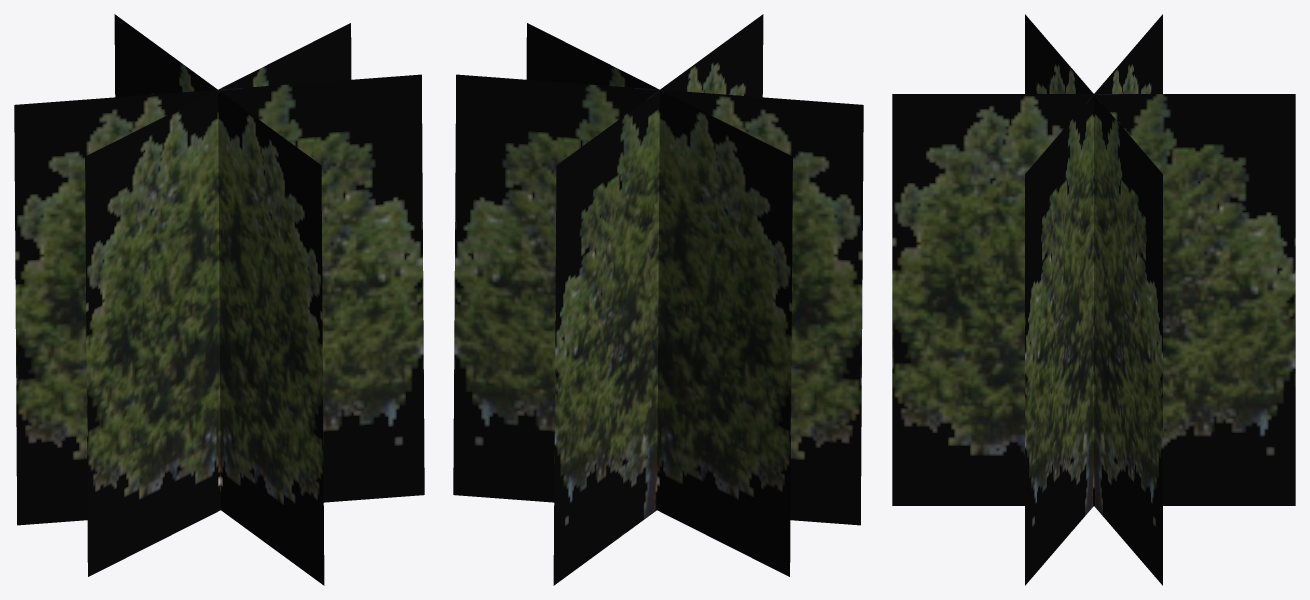
The model's file is shrub.glb.
3 views of the same model, side by side, from view 1: azimuth 30°, elevation 25°; view 2: azimuth 150°, elevation 25°; view 3: azimuth 270°, elevation 25° (orthographic). The views are drawn at different scales.
Parts seen in each view (by area): view 1: shrub.ms3d.mo; view 2: shrub.ms3d.mo; view 3: shrub.ms3d.mo.
Part boxes in pixels (<box>): shrub.ms3d.mo: <box>14,14,424,585</box>; shrub.ms3d.mo: <box>453,14,863,585</box>; shrub.ms3d.mo: <box>892,14,1295,585</box>.
Bounding box in the file's own units: 36.01 × 42.68 × 38.
Materials: 1 (1 with a texture image).
